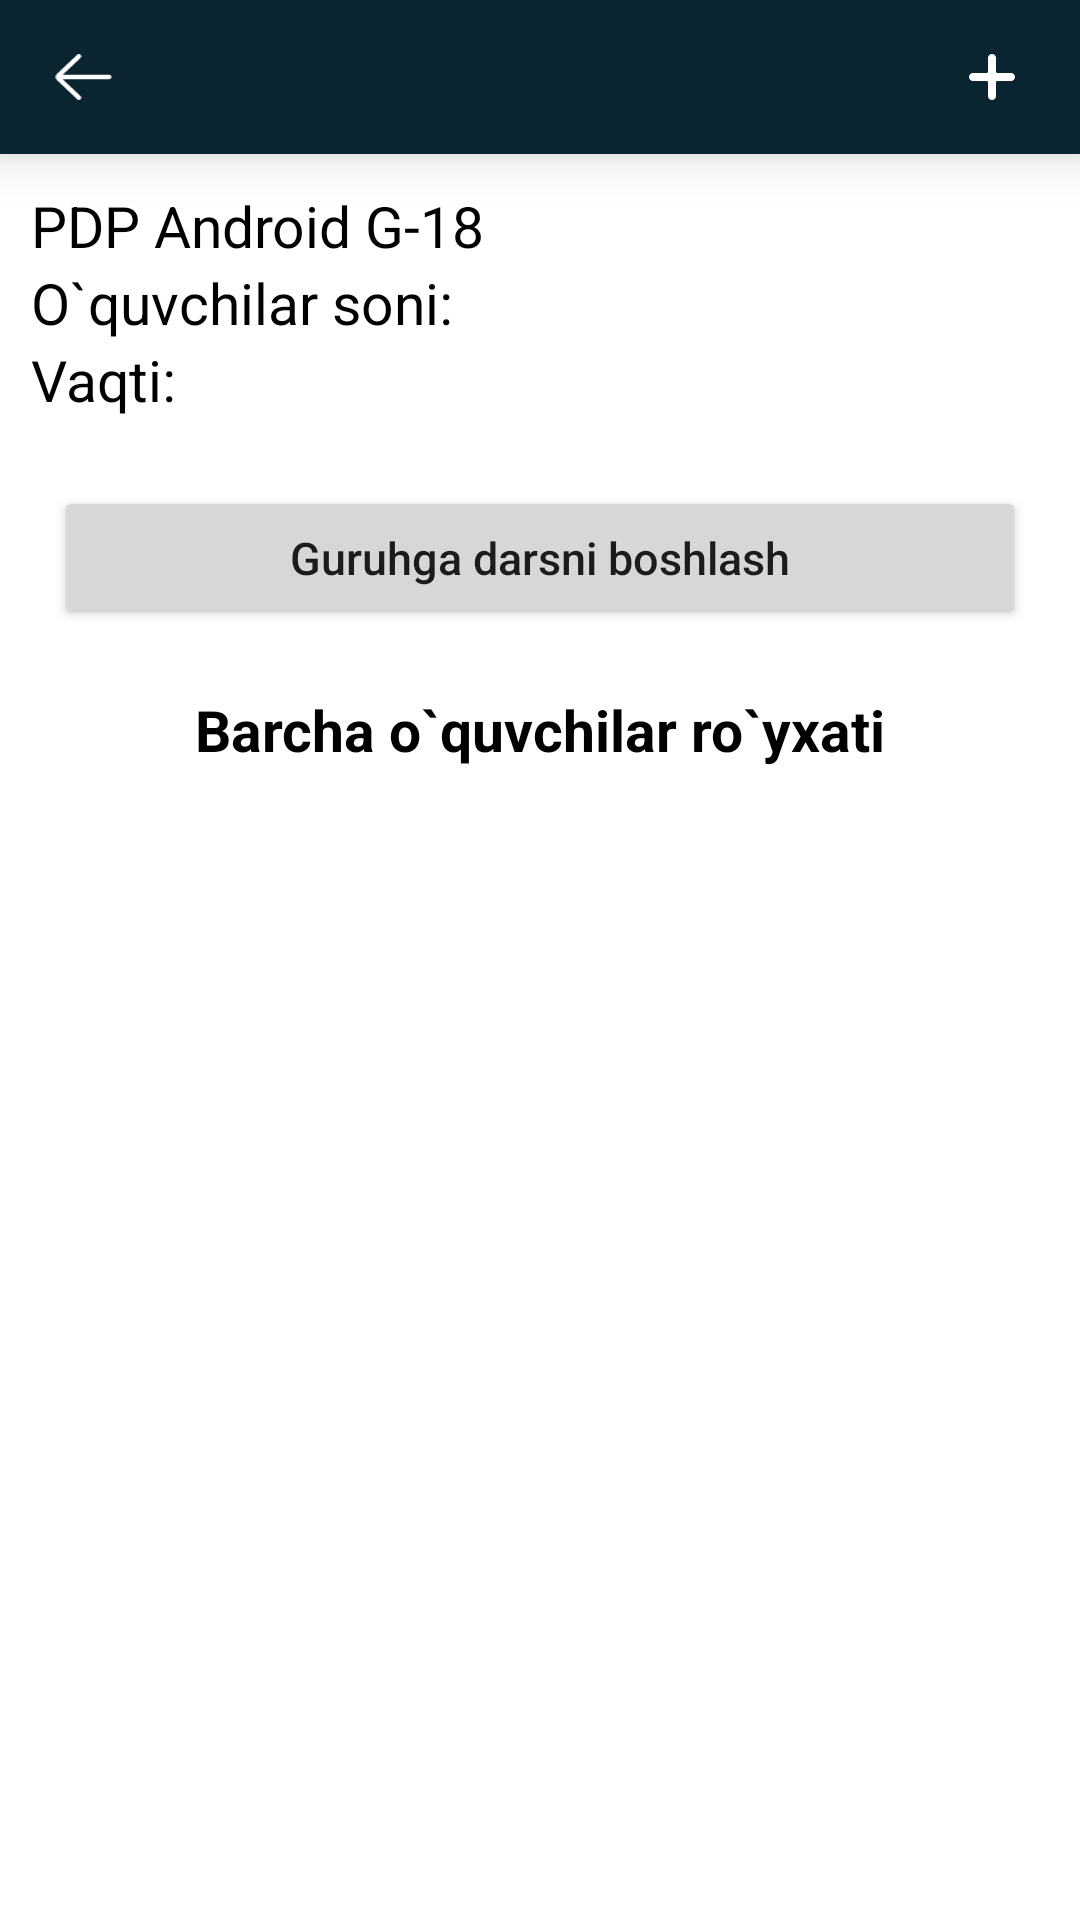

Locate icon controls on the screen. Image size 1080*1920, boxes as bbox=(x1, y1, x2, y2).
add: bbox=(969, 54, 1015, 100)
back: bbox=(55, 54, 112, 100)
